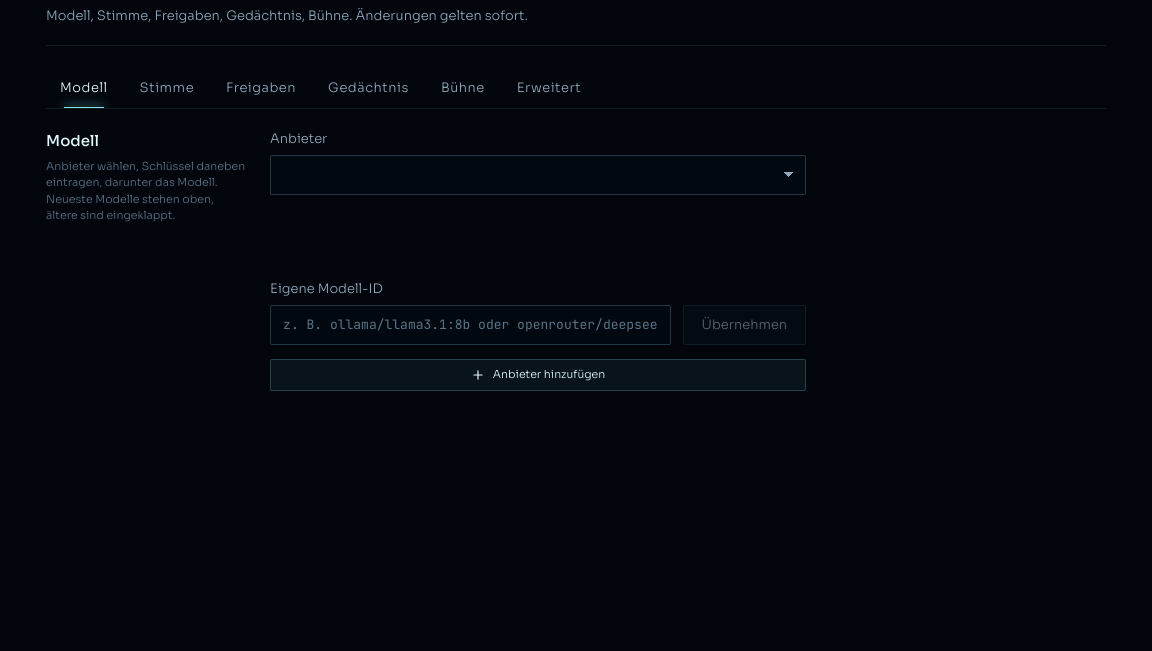
Test case: Einstellungen → Stimme (OpenRouter, Stoppwort, Probe) › zeigt Modelle und Stimmen, speichert Stoppwort und spricht eine Probe
The image size is (1152, 651).
Click the tab "Stimme" at (167, 88), box [126,68,208,108]
(page scrolled)
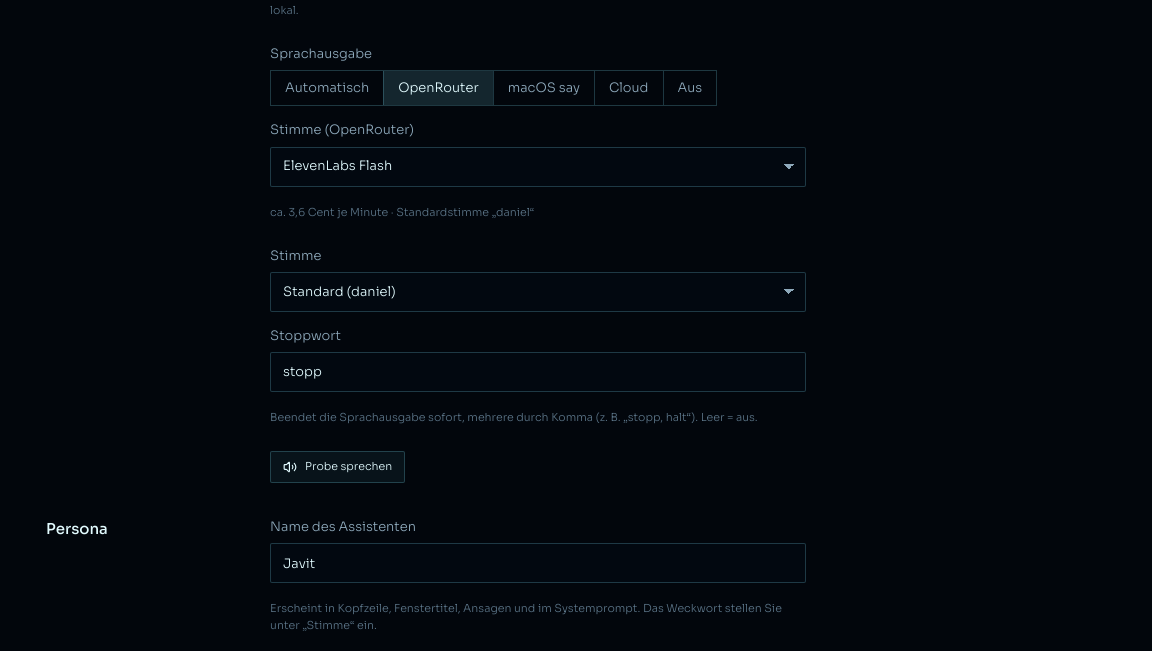
Result: the text "ca. 3,6 Cent je Minute · Standardstimme „daniel“" is shown at [270,204,534,218]
Select "sarah" in the dropdown labelled "Stimme" at (538, 292), box [270,272,806,312]
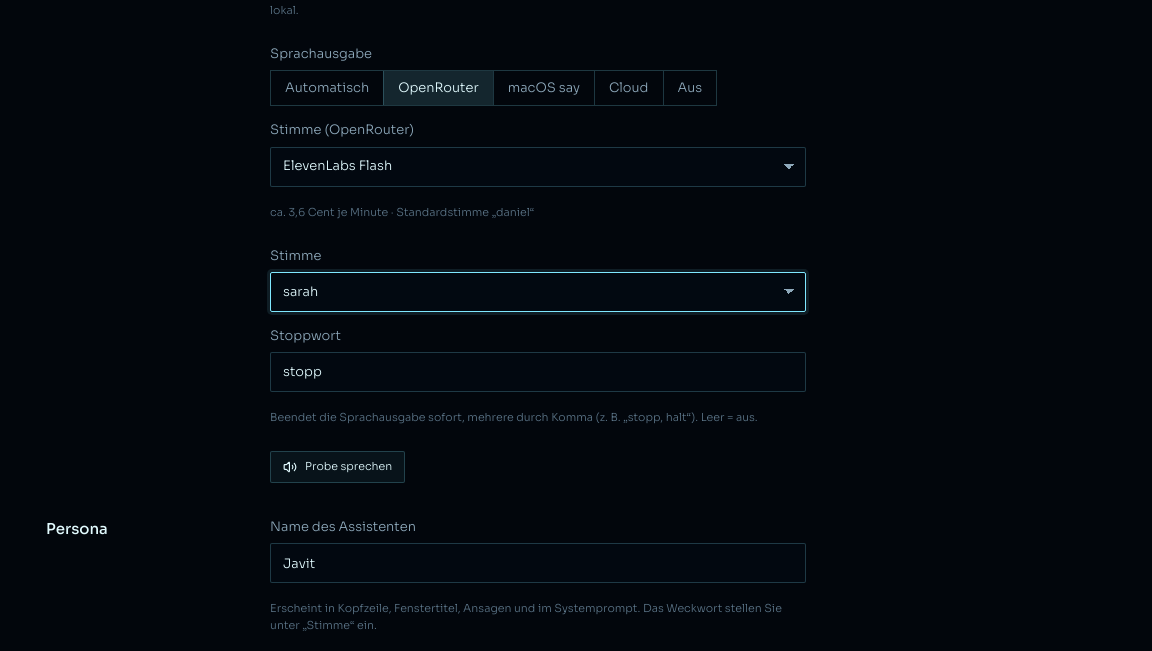
Select "MAI Voice Flash" in the dropdown labelled "Stimme (OpenRouter)" at (538, 166), box [270,146,806,186]
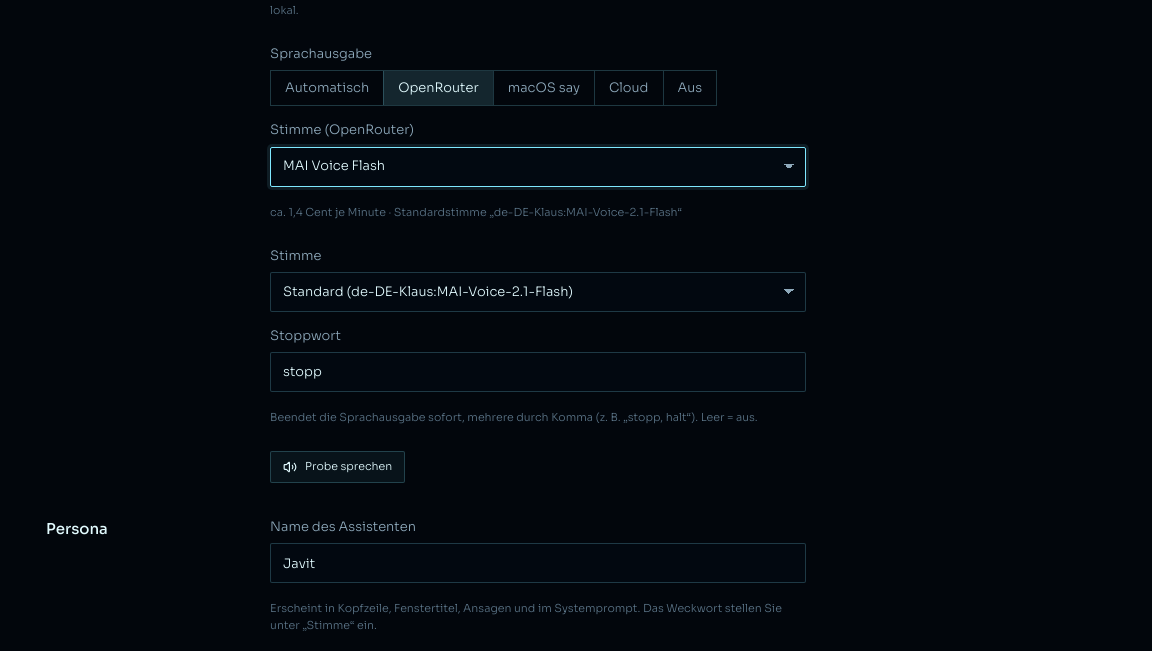
Result: the text "ca. 1,4 Cent je Minute" is shown at [270,204,682,218]
Type "stopp, halt" into the field labelled "Stoppwort" at (538, 372), box [270,352,806,392]
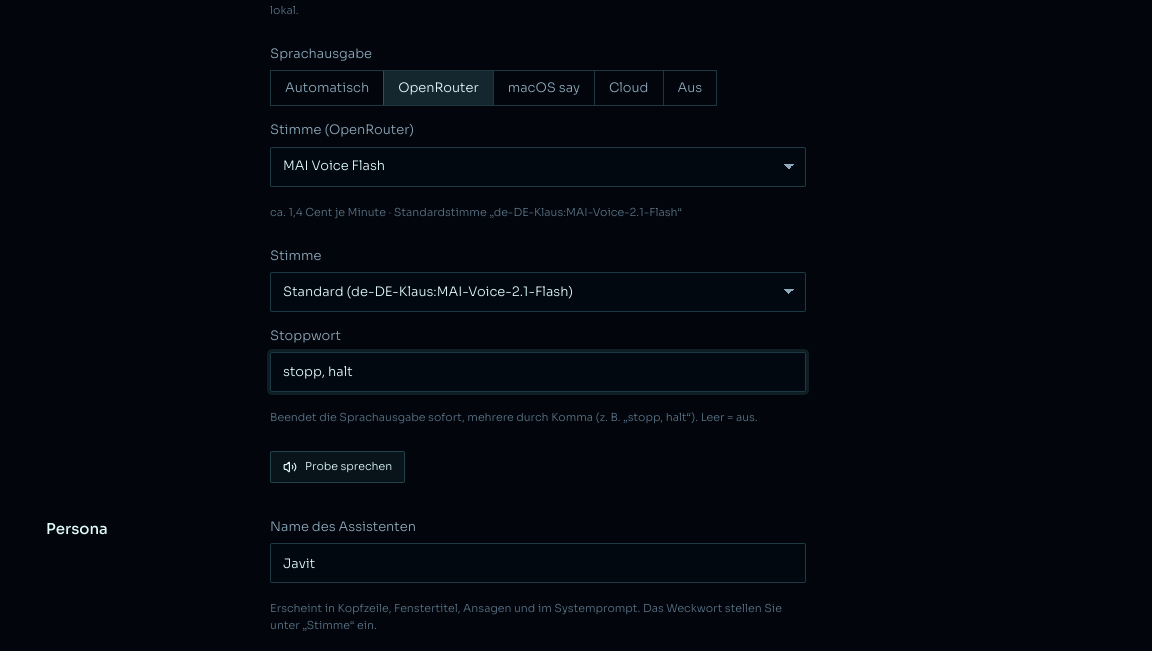
Click the button "Probe sprechen" at (338, 467), box [270,451,405,483]
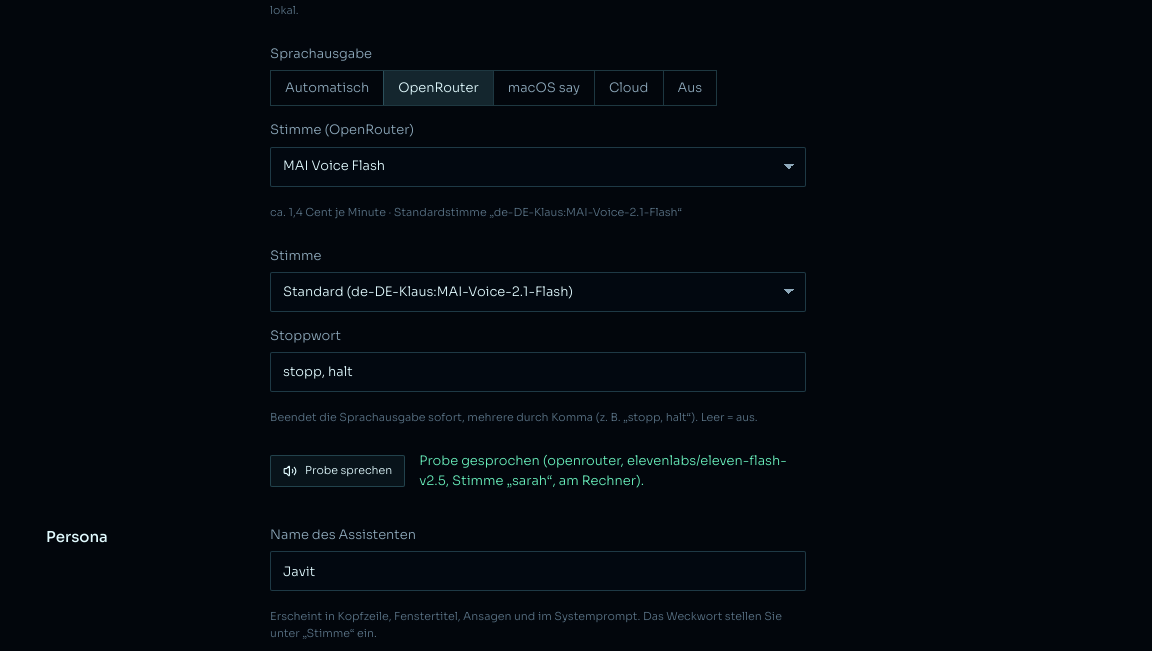
Result: the text "Probe gesprochen (openrouter, elevenlabs/eleven-flash-v2.5, Stimme „sarah“, am Rechner)" is shown at [419,452,787,489]
